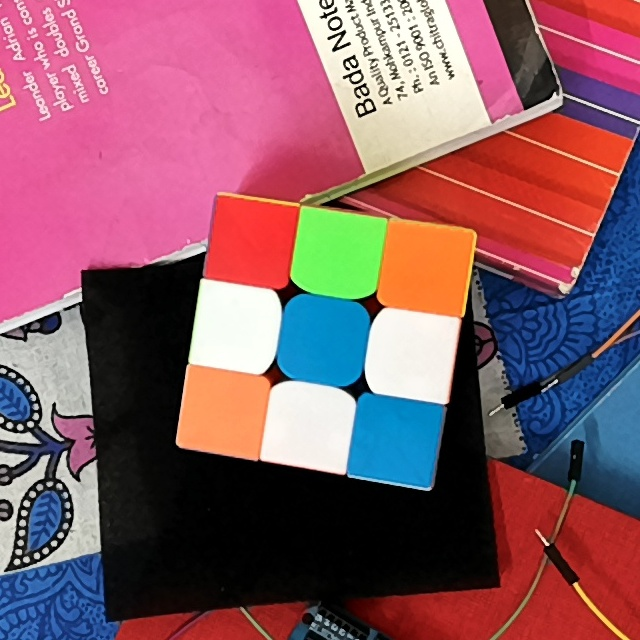tile: (392, 232, 462, 303), (274, 393, 346, 459), (291, 306, 358, 374), (359, 407, 430, 471), (220, 208, 286, 276), (304, 222, 373, 287), (204, 294, 270, 361), (380, 322, 446, 387), (191, 381, 258, 445)
